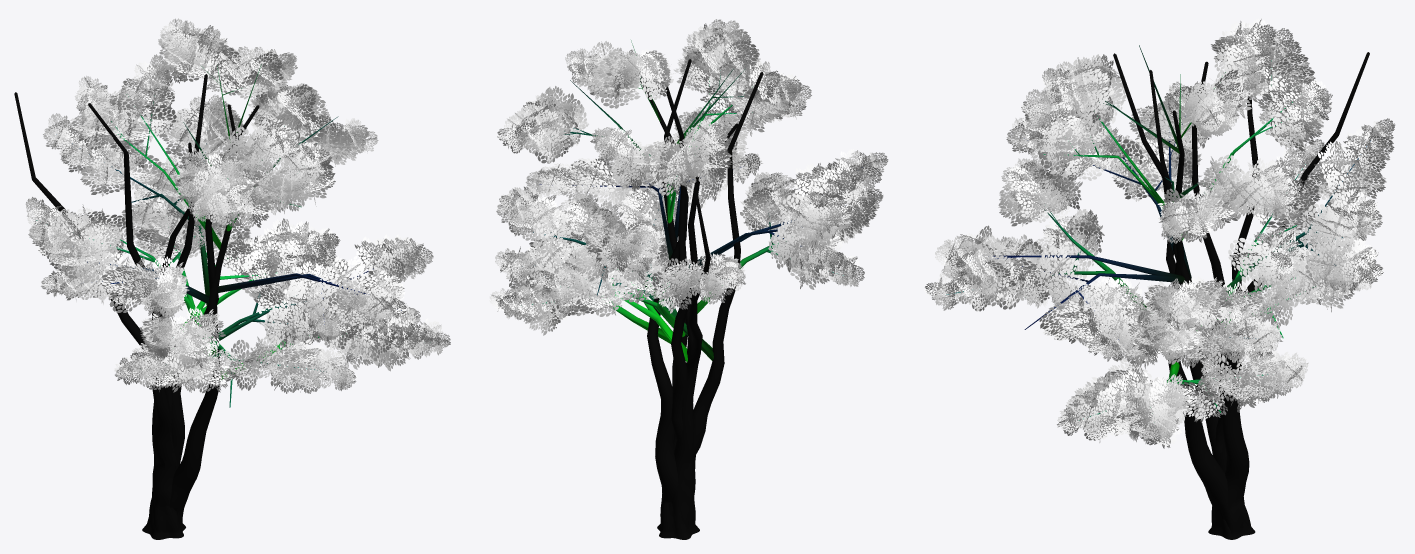
The model's file is tree4re.fbx.
3 renders of one model, left to right at view 1: azimuth 30°, elevation 25°; view 2: azimuth 150°, elevation 25°; view 3: azimuth 270°, elevation 25°, orthographic. The views are drawn at different scales.
Visible parts, largest first — view 1: Tree_1, Tree_0; view 2: Tree_1, Tree_0; view 3: Tree_1, Tree_0.
Boxes of the visible parts, box(x1,y1,x2,y2) form: Tree_1: box(25, 18, 450, 393); Tree_0: box(14, 64, 401, 539); Tree_1: box(489, 19, 888, 335); Tree_0: box(522, 40, 862, 539); Tree_1: box(924, 18, 1395, 448); Tree_0: box(946, 45, 1370, 539).
Size of the model in its own units: 419 by 534 by 441.
Materials: 1 (1 with a texture image).
